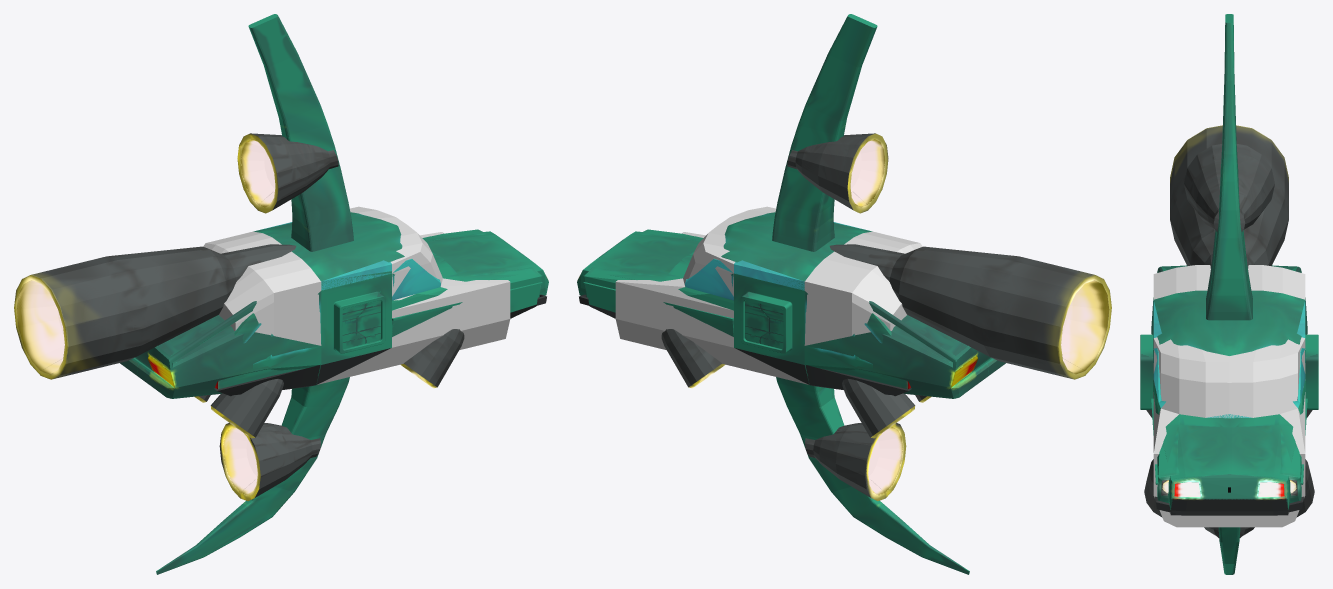
The model's file is Spaceships.glb.
3 views of the same model, side by side, from view 1: azimuth 30°, elevation 25°; view 2: azimuth 150°, elevation 25°; view 3: azimuth 270°, elevation 25° (orthographic). The views are drawn at different scales.
Visible parts, largest first — view 1: Engine.004, BaseShip, Engine.002, Engine.001, Back.002, Glass.002, Engine.003, Face.002, Sluice, Face.001, Back.001, Glass.001 (+1 smaller); view 2: Engine.004, BaseShip, Engine.002, Engine.001, Back.002, Engine.003, Glass.002, Face.002, Sluice, Face.001, Back.001, Glass.001 (+1 smaller); view 3: BaseShip, Engine.002, Face.002, Engine.004, Glass.002, Face.001, Sluice, Engine.001, Glass.001, Engine.003, Back.002.
Boxes of the visible parts, x1,y1,x2,y2 form: Engine.004: (14,244,296,379); BaseShip: (203,206,510,384); Engine.002: (237,14,353,251); Engine.001: (156,377,349,574); Back.002: (120,301,321,398); Glass.002: (253,212,404,290); Engine.003: (194,329,464,438); Face.002: (392,231,548,336); Sluice: (321,273,391,364); Face.001: (316,229,546,384); Back.001: (214,291,321,396); Glass.001: (260,222,440,300); Engine.004: (829,244,1111,379); BaseShip: (615,206,922,384); Engine.002: (772,14,888,251); Engine.001: (776,377,969,574); Back.002: (804,301,1005,398); Engine.003: (661,329,931,438); Glass.002: (721,212,872,289); Face.002: (577,231,733,336); Sluice: (734,273,804,364); Face.001: (579,229,809,384); Back.001: (804,291,911,396); Glass.001: (685,222,865,300); BaseShip: (1153,265,1305,527); Engine.002: (1184,14,1274,320); Face.002: (1163,425,1295,515); Engine.004: (1170,125,1288,268); Glass.002: (1153,290,1305,418); Face.001: (1151,380,1307,515); Sluice: (1140,334,1318,409); Engine.001: (1204,527,1254,574); Glass.001: (1153,301,1305,407); Engine.003: (1144,410,1314,517); Back.002: (1151,265,1307,334).
Size of the model in its own units: 40.83 by 42.9 by 11.74.
Materials: 2 (2 with a texture image).
